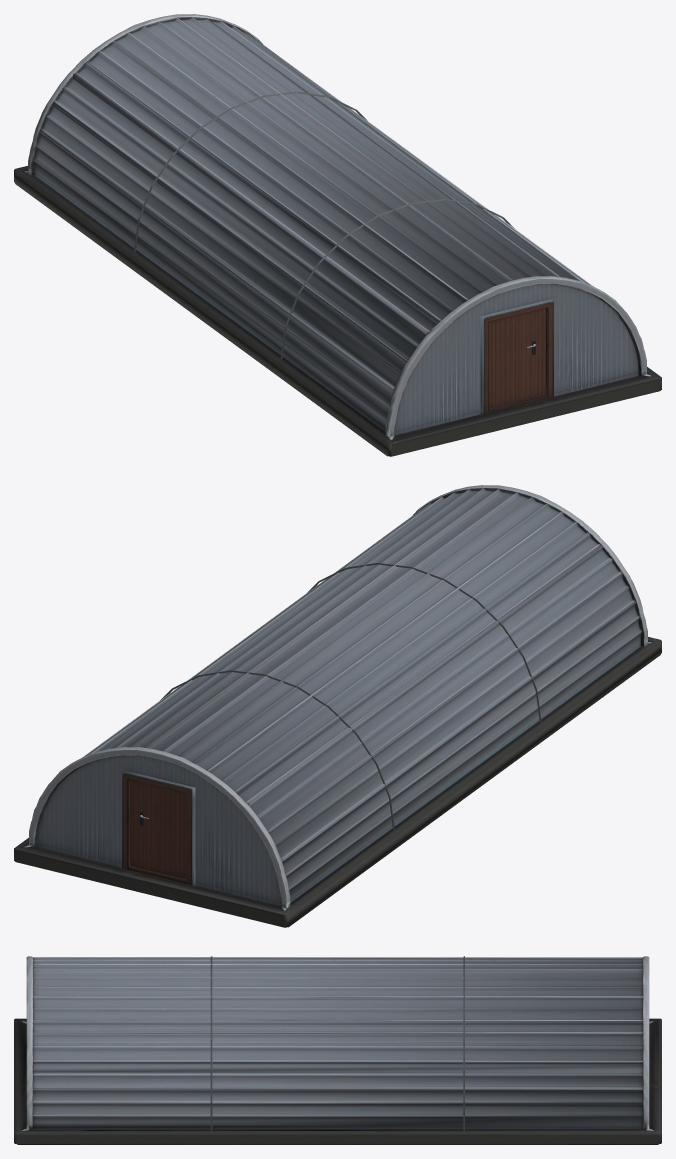
The model's file is nissen-hut.glb.
3 views of the same model, one above another, from view 1: azimuth 30°, elevation 25°; view 2: azimuth 150°, elevation 25°; view 3: azimuth 270°, elevation 25° (orthographic). The views are drawn at different scales.
Parts seen in each view (by area): view 1: Nissen-hutBody; view 2: Nissen-hutBody; view 3: Nissen-hutBody.
Part boxes in pixels (bbox=[...]): Nissen-hutBody: bbox=[14, 14, 661, 456]; Nissen-hutBody: bbox=[14, 485, 661, 927]; Nissen-hutBody: bbox=[14, 956, 661, 1144].
Bounding box in the file's own units: 5.2 × 2.5 × 12.4.
1 material, 1 textured.
